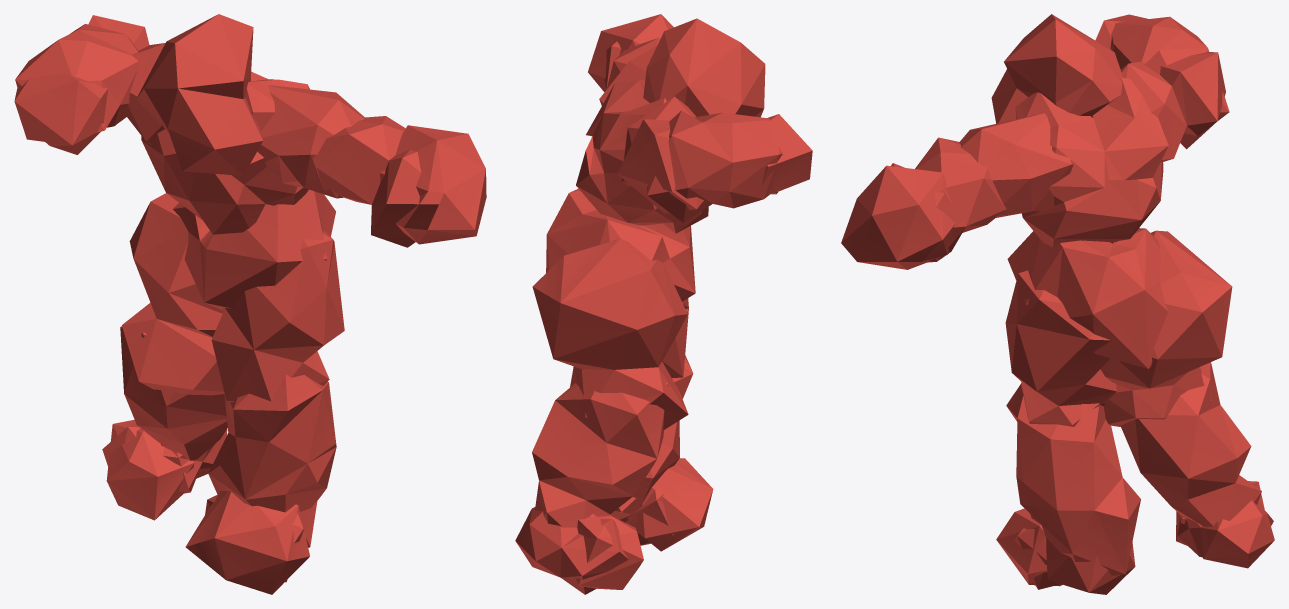
The model's file is dance_frames0362.obj.
3 renders of one model, left to right at view 1: azimuth 30°, elevation 25°; view 2: azimuth 150°, elevation 25°; view 3: azimuth 270°, elevation 25°, orthographic. The views are drawn at different scales.
Visible parts, largest first — view 1: Beta_Surface; view 2: Beta_Surface; view 3: Beta_Surface.
Boxes of the visible parts, left/top/right/bottom form: Beta_Surface: left=14, top=14, right=486, bottom=594; Beta_Surface: left=515, top=14, right=812, bottom=594; Beta_Surface: left=841, top=14, right=1274, bottom=594.
Size of the model in its own units: 1.25 by 1.98 by 1.42.
